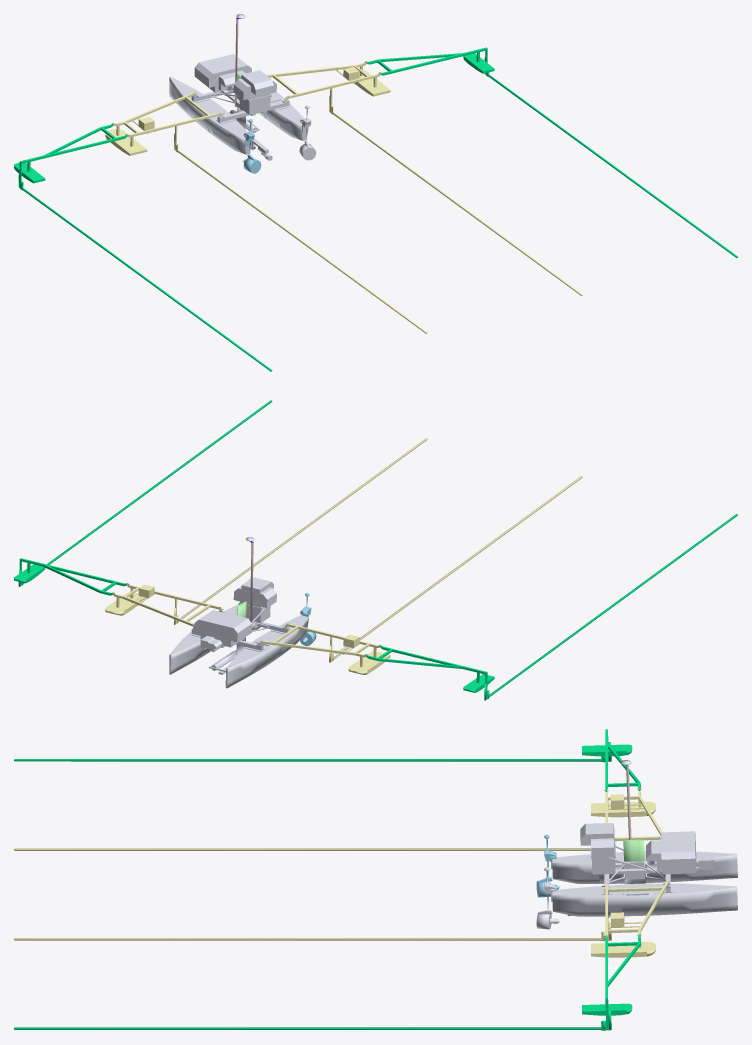
File: delfim_streamers.dae
The picture shows the model from 3 angles, top to bottom: view 1: azimuth 30°, elevation 25°; view 2: azimuth 150°, elevation 25°; view 3: azimuth 270°, elevation 25°; orthographic projection. The views are drawn at different scales.
Visible parts, largest first — view 1: _ncl1_2; view 2: _ncl1_2; view 3: _ncl1_2.
Boxes of the visible parts, left/top/right/bottom form: _ncl1_2: left=14, top=14, right=737, bottom=371; _ncl1_2: left=14, top=400, right=737, bottom=700; _ncl1_2: left=14, top=729, right=737, bottom=1030.
Bounding box in the file's own units: 12.05 × 13.67 × 3.2.
